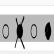correct: (44, 17, 52, 41)
no answer: (1, 17, 10, 41), (30, 22, 38, 40)
not correct: (14, 14, 25, 50)
